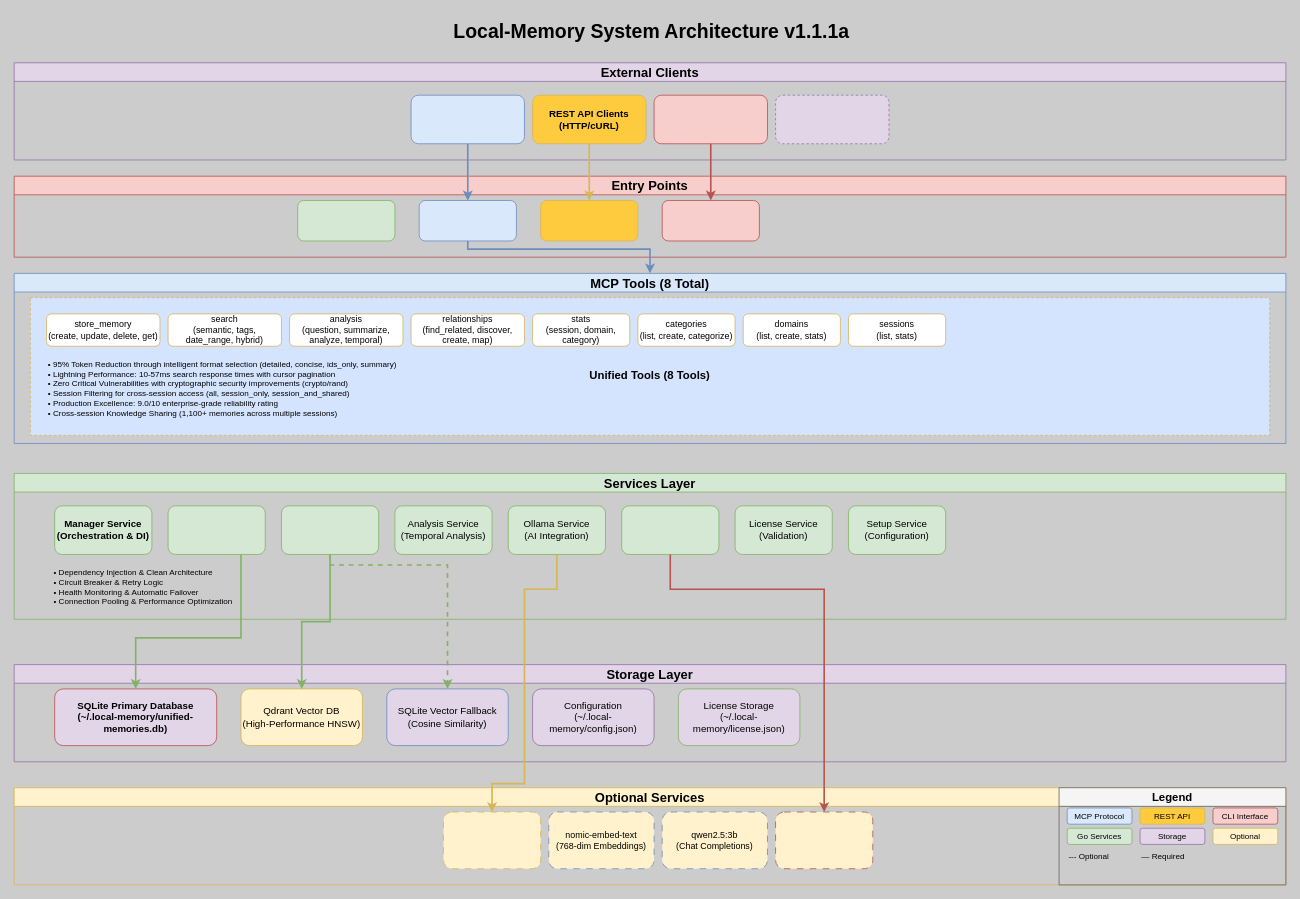
Some shapes in this 1300 by 899 pixel diagram are drawn without their labels. Each missing label, with the centre of its shape:
"CLI Handler (Cobra Commands)" goes at point 710,220.
"CLI Users (Terminal)" goes at point 710,119.
"main.go (Multi-mode Entry)" goes at point 346,220.
"MCP Clients (Claude Code, Cursor, vscode, Cline, etc.)" goes at point 467,119.
"MCP Server (JSON-RPC/stdio)" goes at point 467,220.
"Memory Service (CRUD Operations)" goes at point 216,529.
"Ollama AI (localhost:11434)" goes at point 492,840.
"Qdrant Service (Vector DB)" goes at point 670,529.
"Qdrant Vector DB (localhost:6333)" goes at point 824,840.
"REST API Server (HTTP:3002)" goes at point 589,220.
"Vector Service (Unified Backend)" goes at point 330,529.
"Web Interface (Future)" goes at point 832,119.
